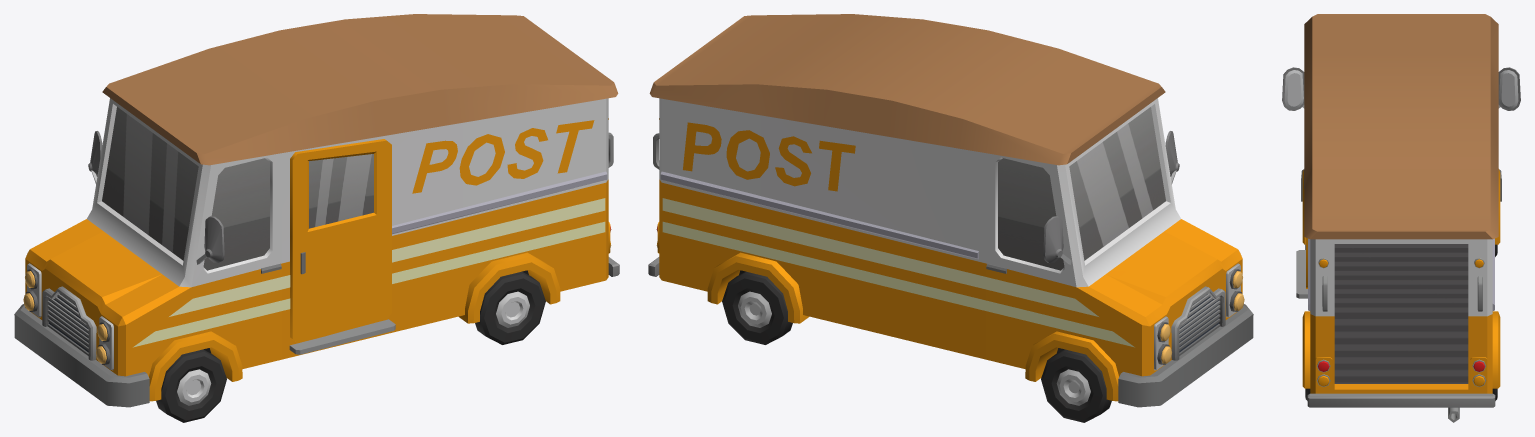
Rendered from PostCar_2_H.gltf.
3 renders of one model, left to right at view 1: azimuth 30°, elevation 25°; view 2: azimuth 150°, elevation 25°; view 3: azimuth 270°, elevation 25°, orthographic. The views are drawn at different scales.
Parts seen in each view (by area): view 1: PostCar_2_H, FL, RL; view 2: PostCar_2_H, FR, RR; view 3: PostCar_2_H.
Part boxes in pixels (bbox=[...]): PostCar_2_H: bbox=[14, 14, 619, 407]; FL: bbox=[156, 349, 226, 422]; RL: bbox=[475, 271, 545, 344]; PostCar_2_H: bbox=[648, 14, 1253, 407]; FR: bbox=[1041, 349, 1111, 422]; RR: bbox=[722, 271, 792, 344]; PostCar_2_H: bbox=[1282, 14, 1520, 422].
Bounding box in the file's own units: 4.14 × 2.11 × 1.8.
5 materials, 5 textured.
